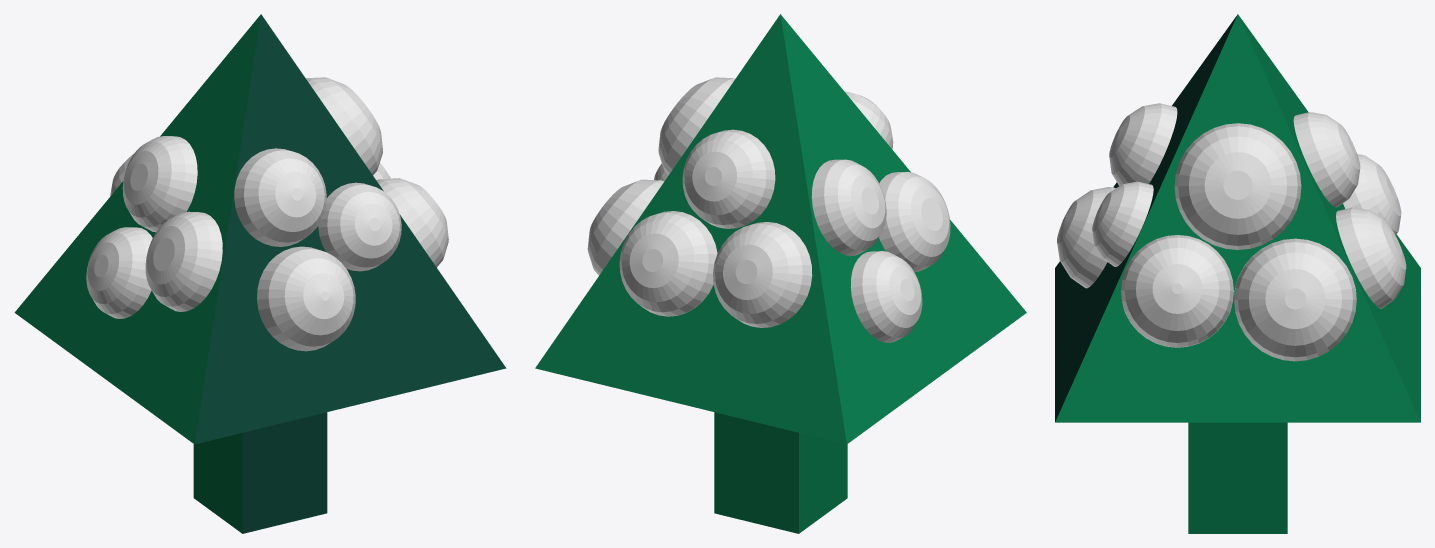
Rendered from ARBOLMP3.fbx.
3 views of the same model, side by side, from view 1: azimuth 30°, elevation 25°; view 2: azimuth 150°, elevation 25°; view 3: azimuth 270°, elevation 25° (orthographic).
Visible parts, largest first — view 1: Cube; view 2: Cube; view 3: Cube.
Part boxes in pixels (bbox=[...]): Cube: bbox=[14, 14, 506, 533]; Cube: bbox=[535, 14, 1026, 533]; Cube: bbox=[1055, 14, 1420, 533].
Bounding box in the file's own units: 200 × 301 × 200.
